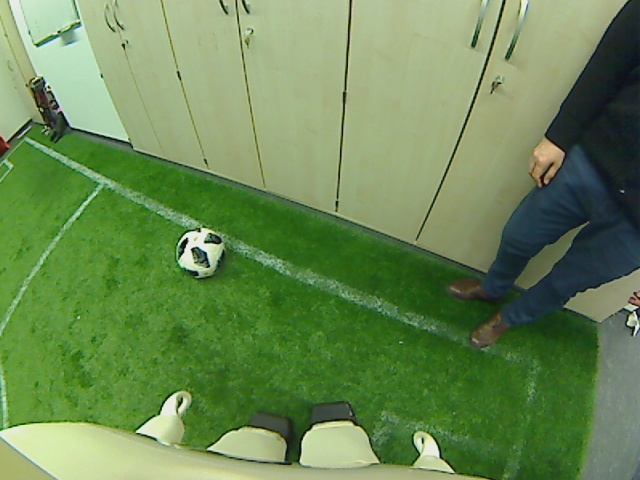ball: (175, 226, 225, 276)
